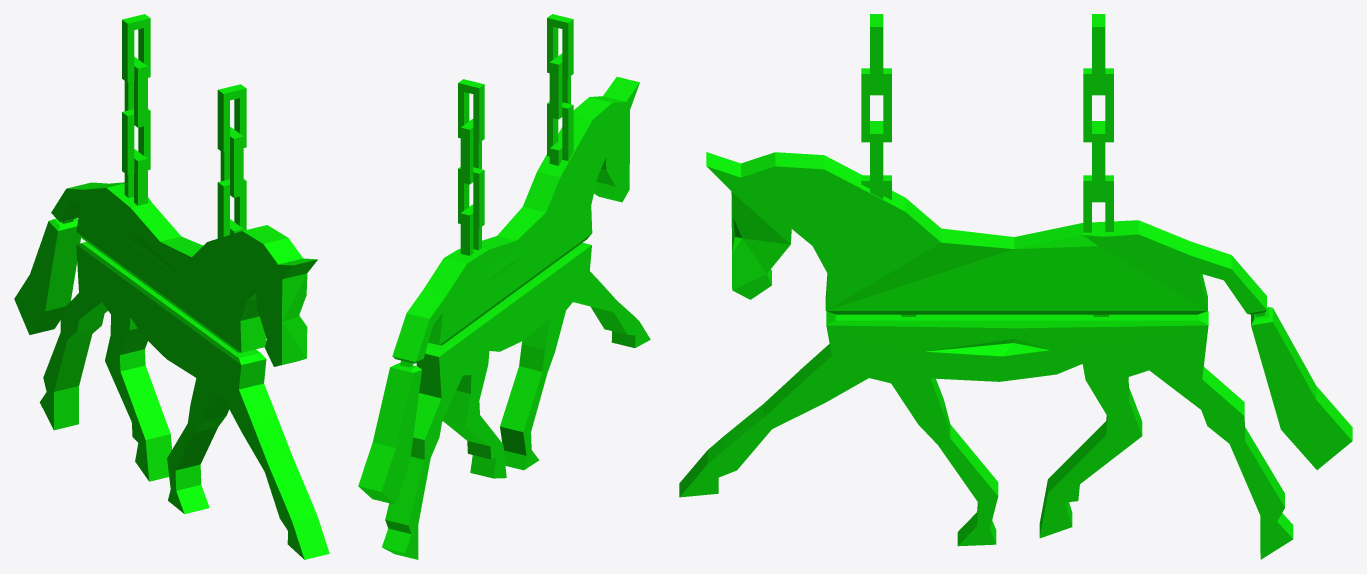
The model's file is SM_Signboard_Horse_Fantasy.fbx.
3 views of the same model, side by side, from view 1: azimuth 30°, elevation 25°; view 2: azimuth 150°, elevation 25°; view 3: azimuth 270°, elevation 25° (orthographic). The views are drawn at different scales.
Visible parts, largest first — view 1: singboard-horse-fantasy; view 2: singboard-horse-fantasy; view 3: singboard-horse-fantasy.
Part boxes in pixels (left/top/right/bottom): singboard-horse-fantasy: left=14, top=14, right=329, bottom=559; singboard-horse-fantasy: left=358, top=14, right=650, bottom=559; singboard-horse-fantasy: left=679, top=14, right=1352, bottom=559.
Size of the model in its own units: 0.0751 by 1.28 by 1.47.
